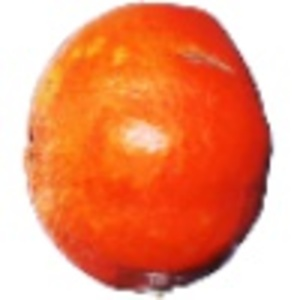tangerina: (21, 2, 275, 300)
